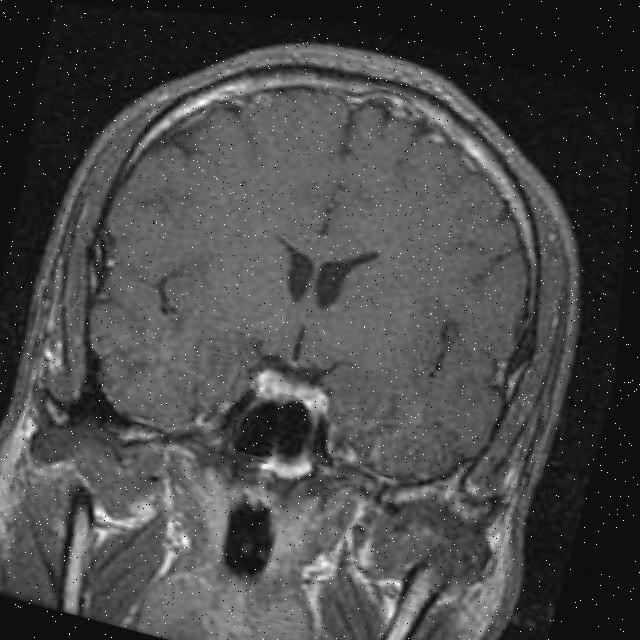Pituitary: (248, 365, 335, 421)
